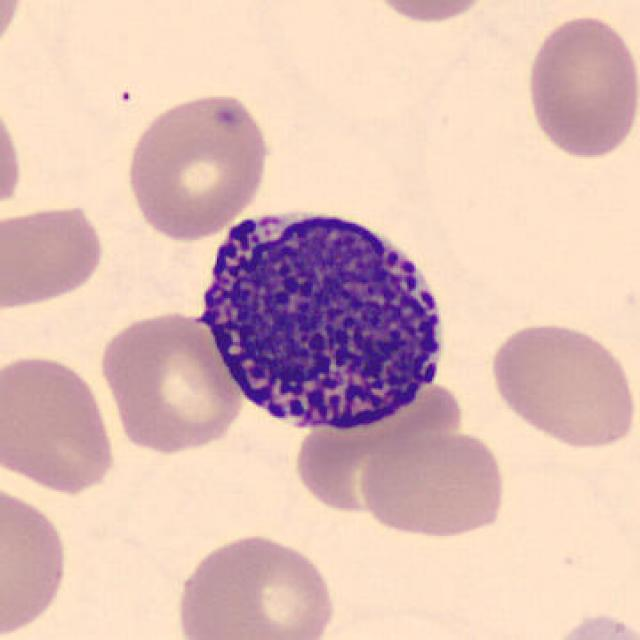Basophil: (185, 188, 460, 442)
RBC: (121, 88, 274, 242), (96, 306, 245, 456), (296, 383, 468, 512), (486, 318, 636, 452), (170, 529, 340, 640), (0, 349, 121, 497), (521, 9, 638, 162), (356, 427, 508, 541), (0, 197, 108, 312), (0, 476, 73, 638), (357, 0, 501, 26), (0, 90, 27, 220), (544, 608, 638, 640), (0, 0, 26, 63)
